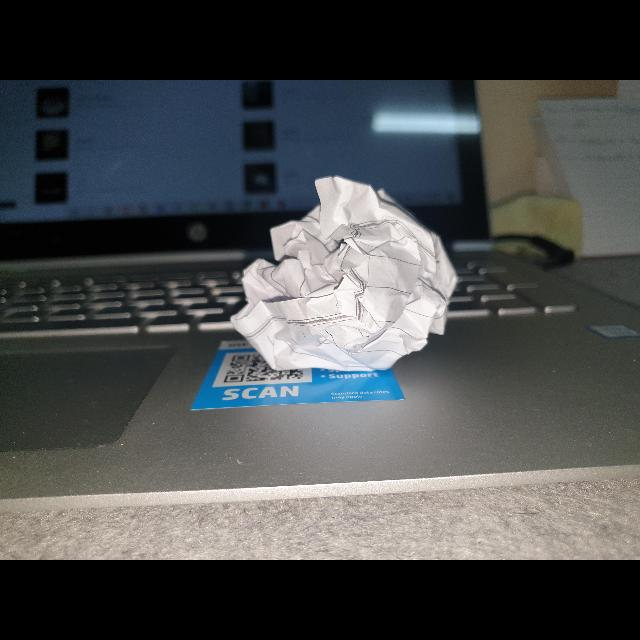scrap_paper: (218, 166, 464, 388)
